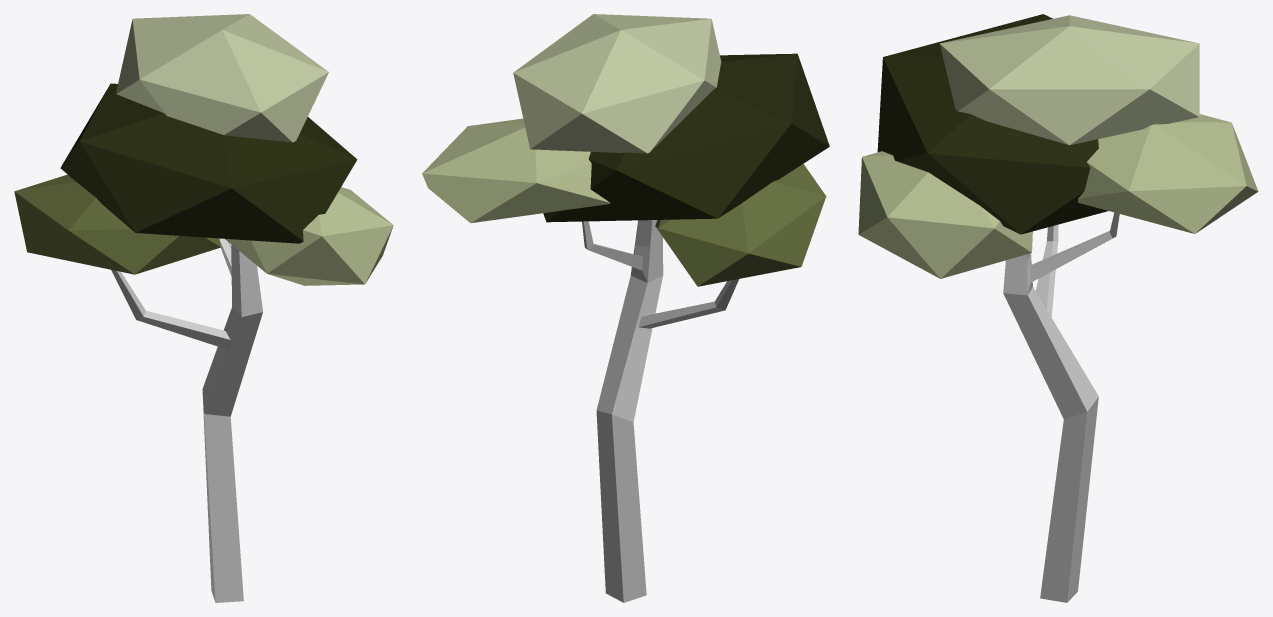
Rendered from TreeAutumn10_Alt3.fbx.
3 views of the same model, side by side, from view 1: azimuth 30°, elevation 25°; view 2: azimuth 150°, elevation 25°; view 3: azimuth 270°, elevation 25° (orthographic).
Visible parts, largest first — view 1: TreeAutumn10_Alt3; view 2: TreeAutumn10_Alt3; view 3: TreeAutumn10_Alt3.
Part boxes in pixels (bbox=[...]): TreeAutumn10_Alt3: bbox=[14, 14, 393, 602]; TreeAutumn10_Alt3: bbox=[422, 14, 829, 602]; TreeAutumn10_Alt3: bbox=[858, 14, 1258, 602].
Size of the model in its own units: 1 by 1.7 by 1.09.
